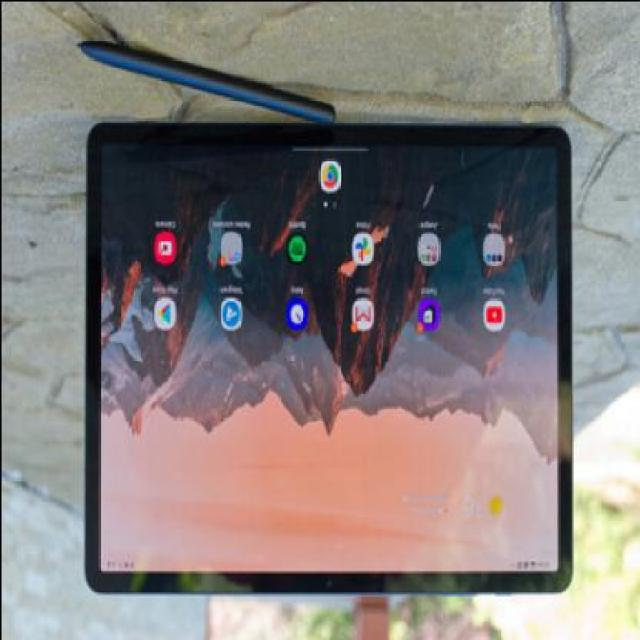tablet: (61, 77, 595, 615)
